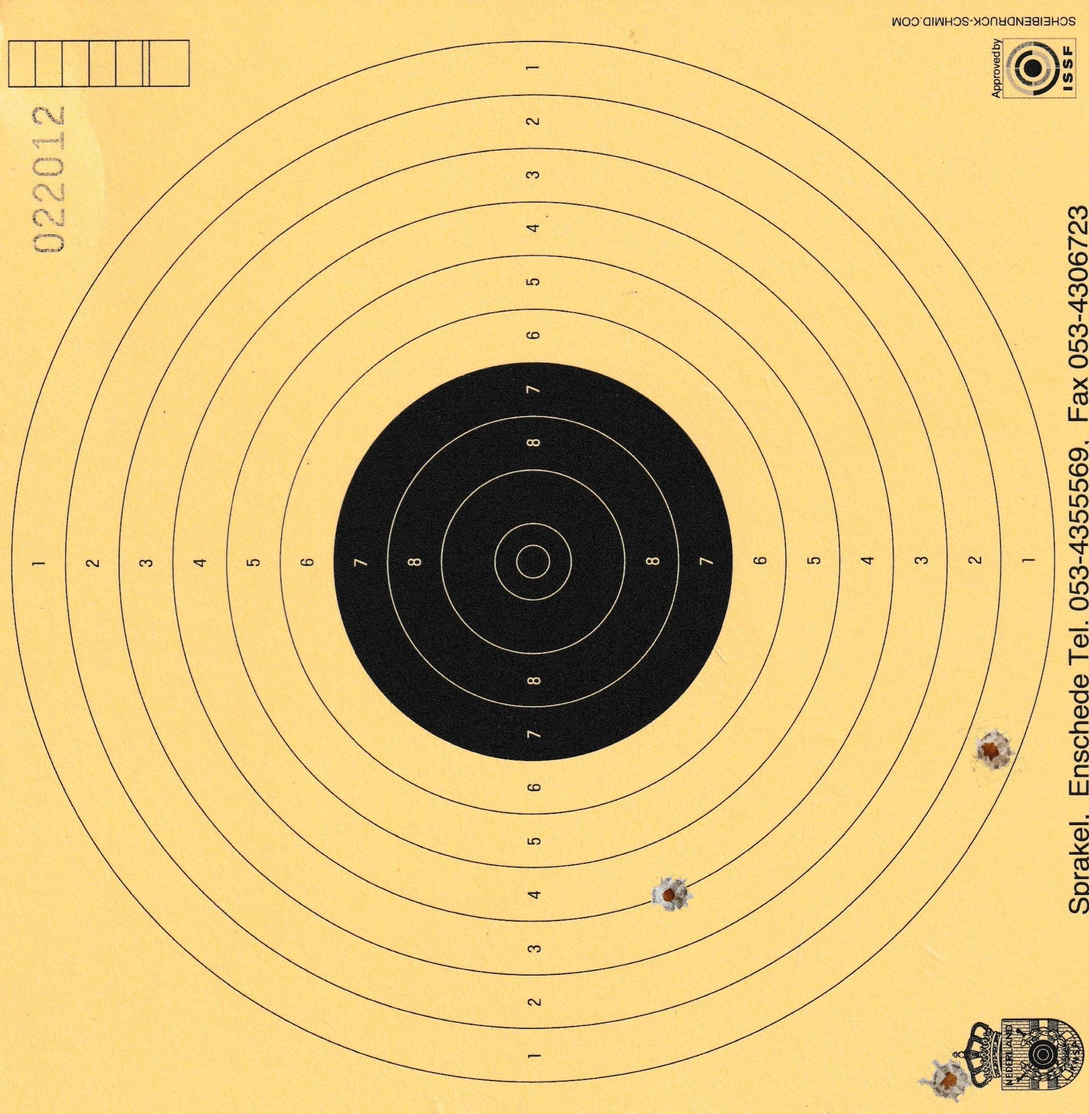hole: (923, 1058, 975, 1103), (972, 732, 1018, 772), (653, 873, 692, 914)
